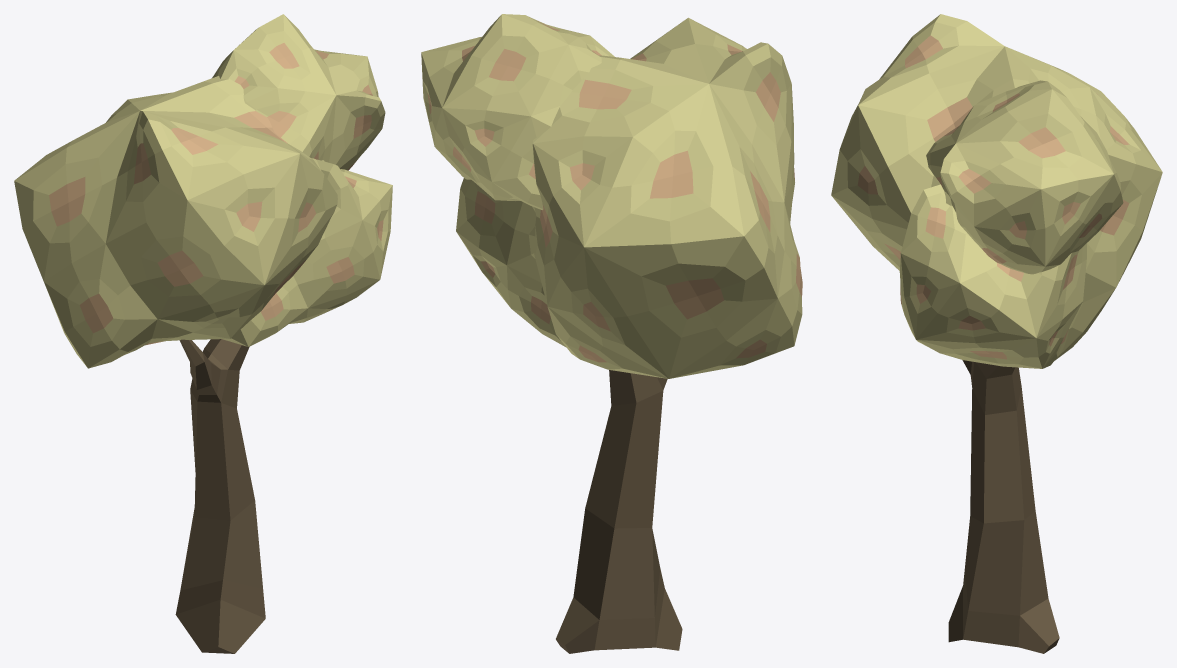
File: glassTree.fbx
3 renders of one model, left to right at view 1: azimuth 30°, elevation 25°; view 2: azimuth 150°, elevation 25°; view 3: azimuth 270°, elevation 25°, orthographic. The views are drawn at different scales.
Parts seen in each view (by area): view 1: Cube, Cylinder; view 2: Cube, Cylinder; view 3: Cube, Cylinder.
Boxes of the visible parts, bbox=[...] form: Cube: bbox=[14, 14, 392, 368]; Cylinder: bbox=[175, 339, 265, 653]; Cube: bbox=[421, 14, 802, 378]; Cylinder: bbox=[556, 370, 682, 653]; Cube: bbox=[831, 14, 1162, 368]; Cylinder: bbox=[948, 360, 1059, 653].
Size of the model in its own units: 840 by 1415 by 706.
